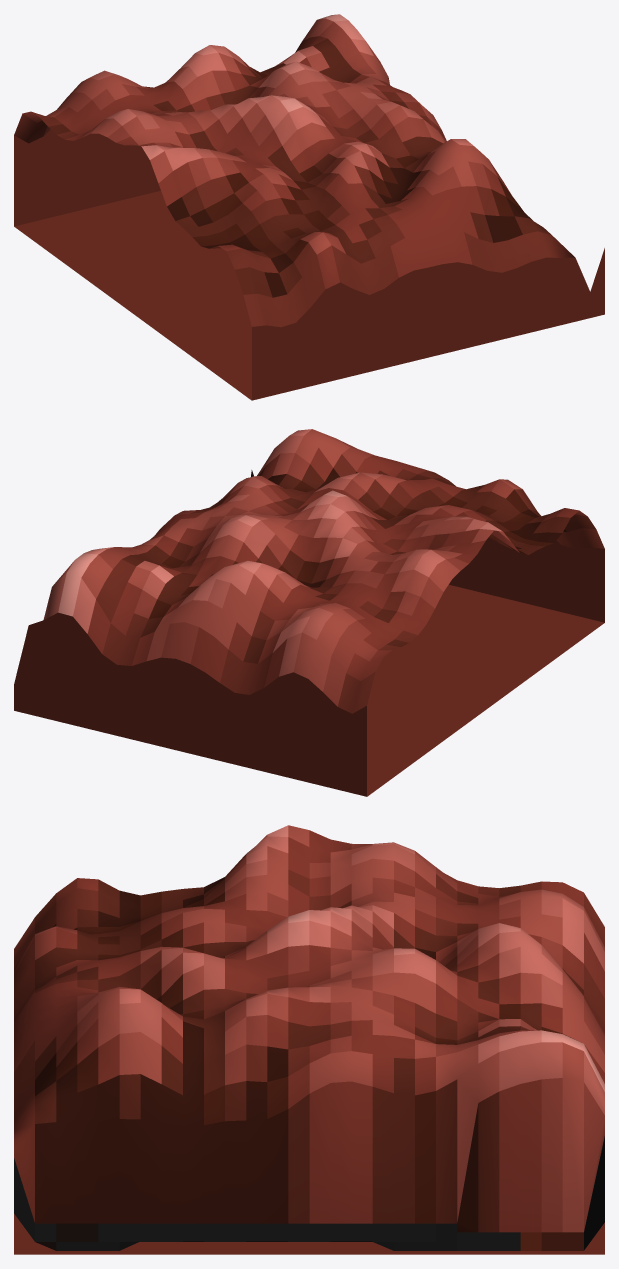
File: newsh5-235.glb
The picture shows the model from 3 angles, top to bottom: view 1: azimuth 30°, elevation 25°; view 2: azimuth 150°, elevation 25°; view 3: azimuth 270°, elevation 25°; orthographic projection. The views are drawn at different scales.
Visible parts, largest first — view 1: newsh5-235; view 2: newsh5-235; view 3: newsh5-235.
Boxes of the visible parts, x1=… form: newsh5-235: x1=14, y1=14, x2=604, y2=400; newsh5-235: x1=14, y1=429, x2=604, y2=796; newsh5-235: x1=14, y1=825, x2=604, y2=1254.
Bounding box in the file's own units: 2 × 0.9582 × 2.33.
